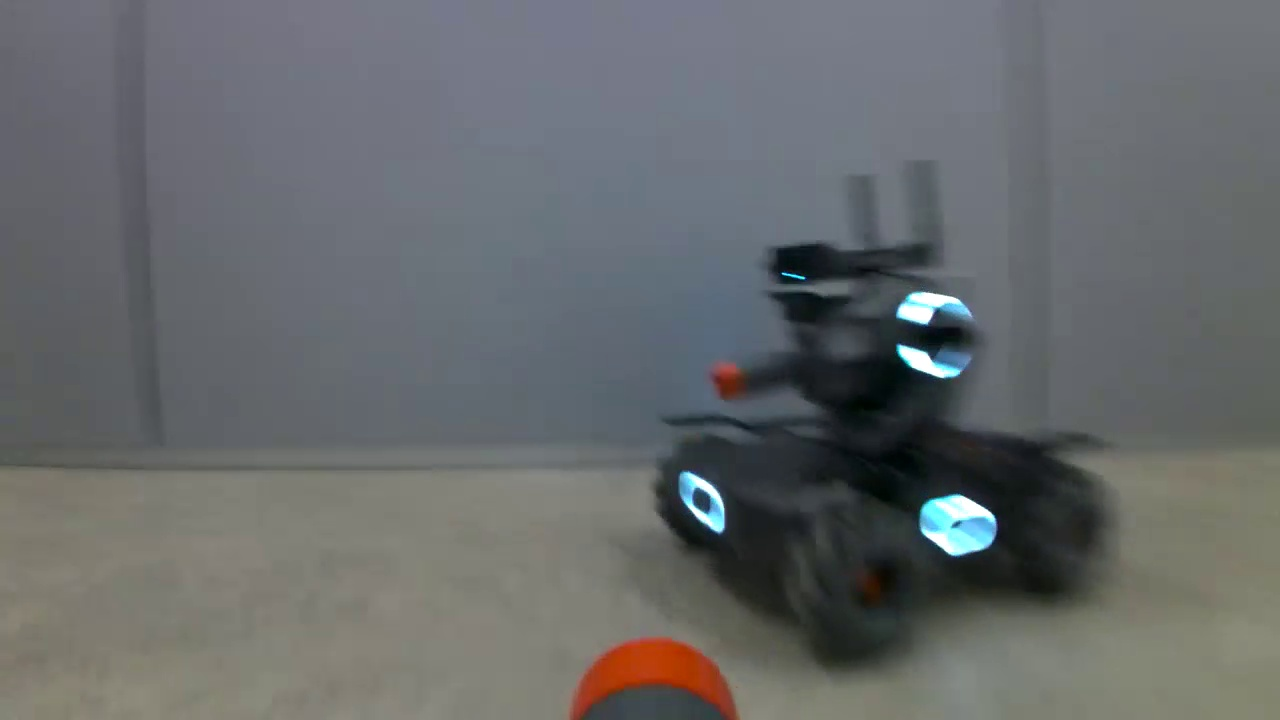robot: (651, 223, 1125, 683)
